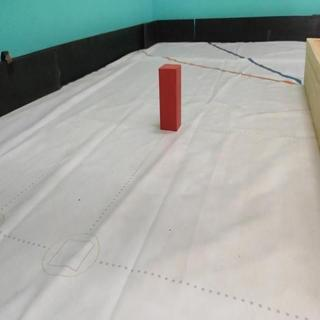redbox: (159, 62, 182, 131)
